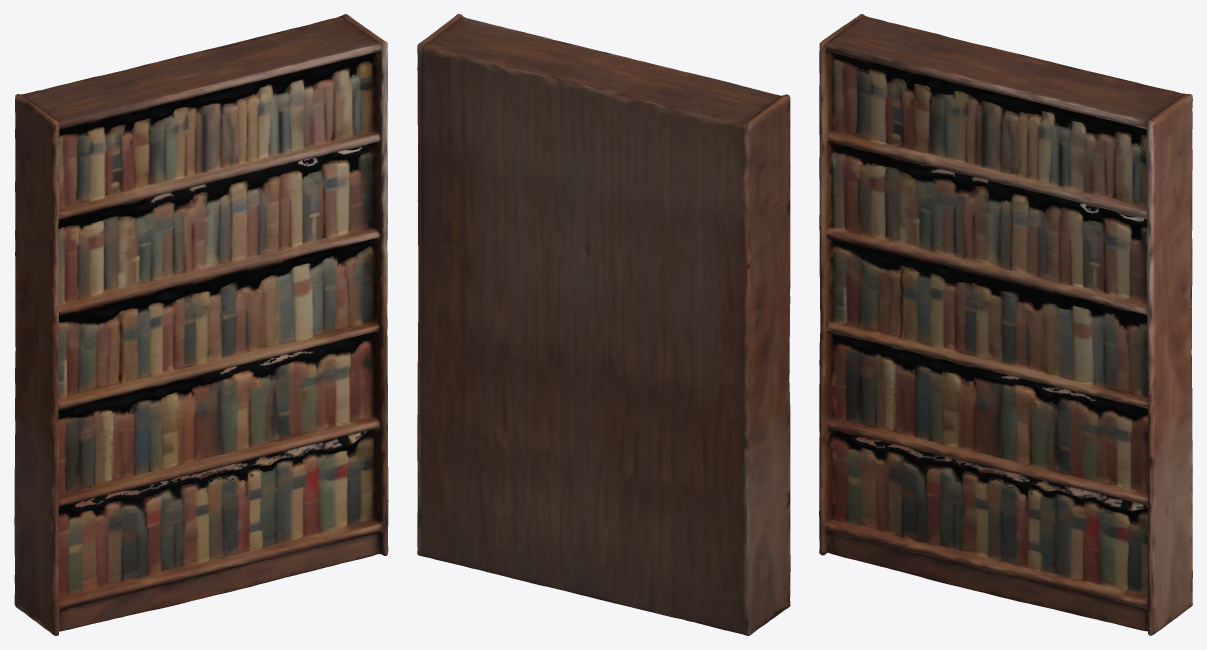
3 views of the same model, side by side, from view 1: azimuth 30°, elevation 25°; view 2: azimuth 150°, elevation 25°; view 3: azimuth 330°, elevation 25° (orthographic).
Parts seen in each view (by area): view 1: Mesh_0; view 2: Mesh_0; view 3: Mesh_0.
Part boxes in pixels (box(x1,y1,x2,y2)): Mesh_0: box(14, 14, 388, 635); Mesh_0: box(417, 14, 790, 635); Mesh_0: box(819, 14, 1192, 635).
Bounding box in the file's own units: 1.27 × 1.87 × 0.2791.
Materials: 1 (1 with a texture image).
